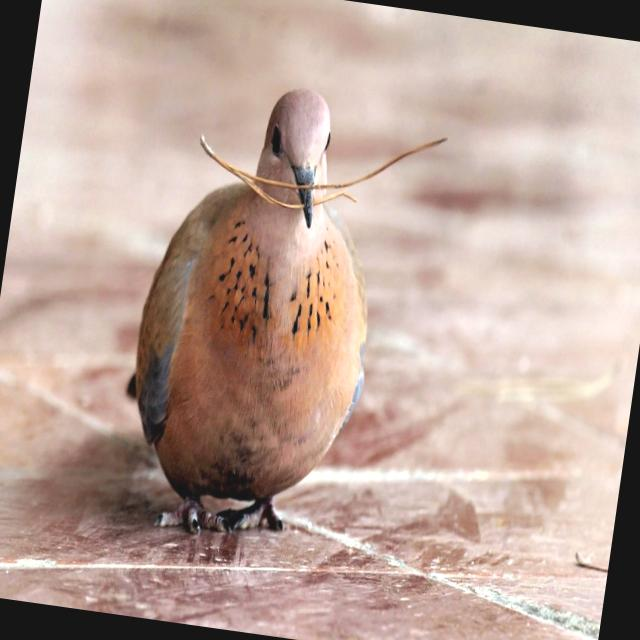bird: (98, 61, 410, 570)
